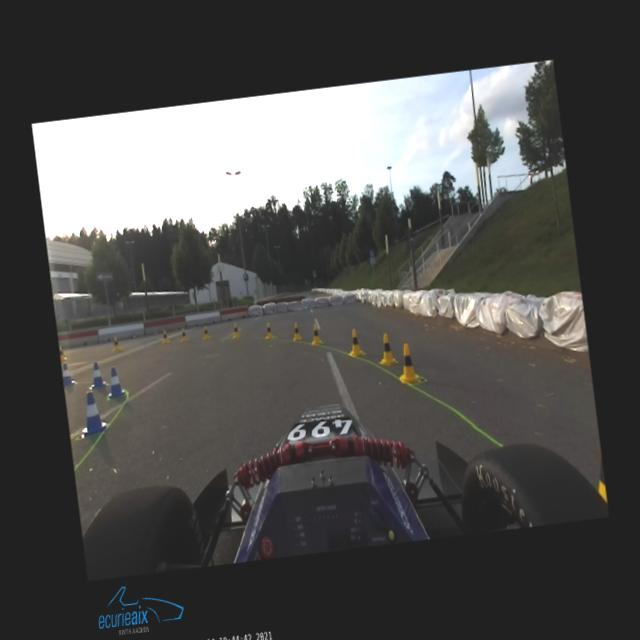blue_cone: (76, 389, 107, 437), (104, 367, 124, 398), (88, 361, 106, 388), (60, 361, 74, 385)
yellow_cone: (396, 342, 420, 384), (376, 332, 398, 366), (347, 327, 363, 356), (310, 322, 322, 344), (292, 322, 302, 339), (264, 322, 274, 338), (58, 344, 66, 362), (232, 322, 240, 337), (112, 336, 120, 351), (160, 328, 168, 342), (179, 326, 187, 340), (202, 326, 209, 338)
